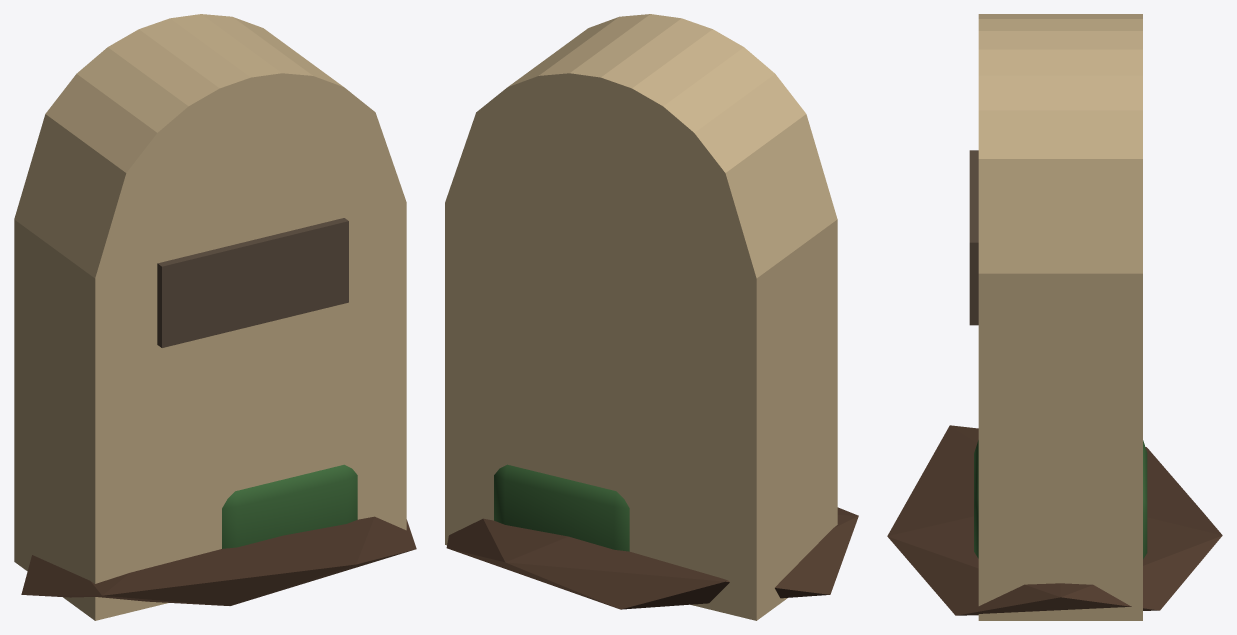
Rendered from milestone.glb.
3 renders of one model, left to right at view 1: azimuth 30°, elevation 25°; view 2: azimuth 150°, elevation 25°; view 3: azimuth 270°, elevation 25°, orthographic.
Parts seen in each view (by area): view 1: milestone; view 2: milestone; view 3: milestone.
Part boxes in pixels (box(x1,y1,x2,y2)): milestone: box(14, 14, 416, 620); milestone: box(445, 14, 858, 620); milestone: box(887, 14, 1222, 620).
Bounding box in the file's own units: 0.4752 × 0.64 × 0.3677.
